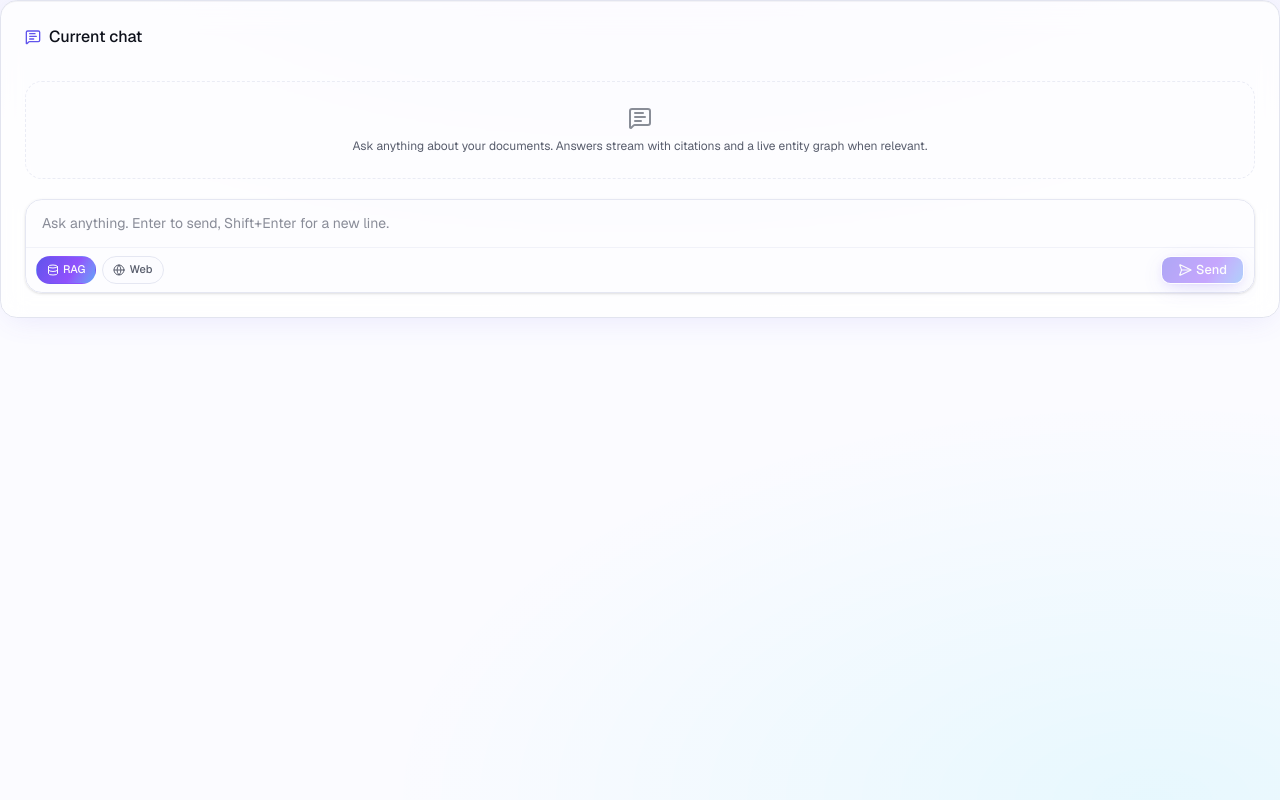
<ChatPanel /> › stop button aborts the in-flight stream and restores the question
Type "long-running query" into the text box named "question" at point(640, 224), box [26, 200, 1254, 247]
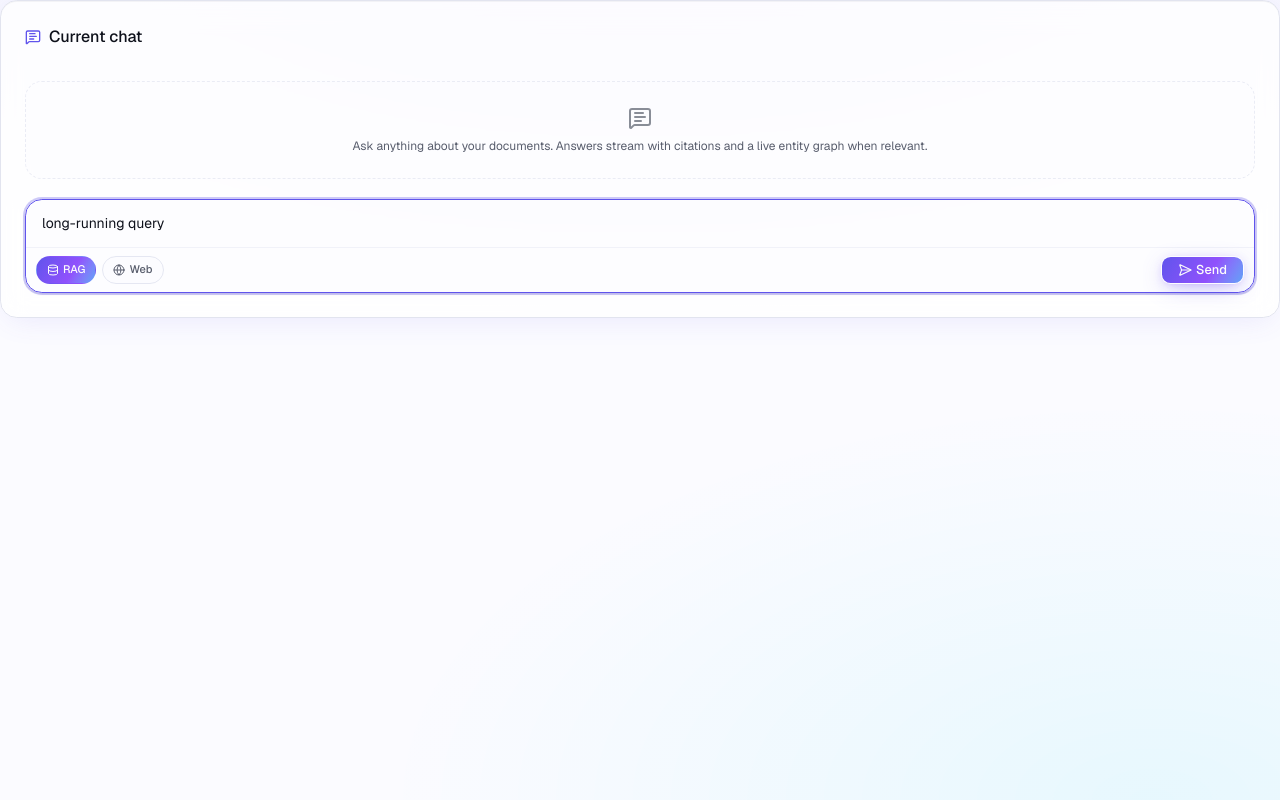
Click the button "Send" at point(1202, 270), box [1161, 256, 1244, 284]
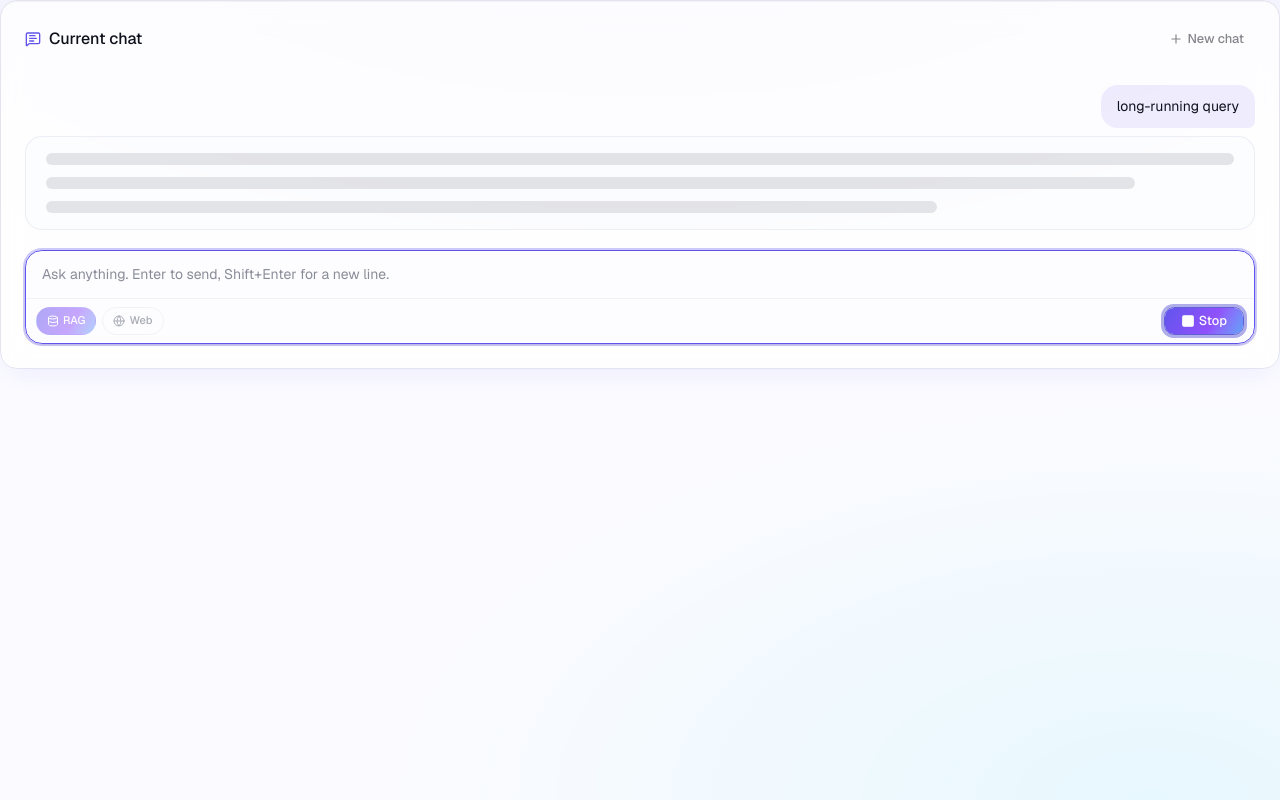
Click the button "Stop" at point(1204, 321), box [1164, 307, 1244, 335]
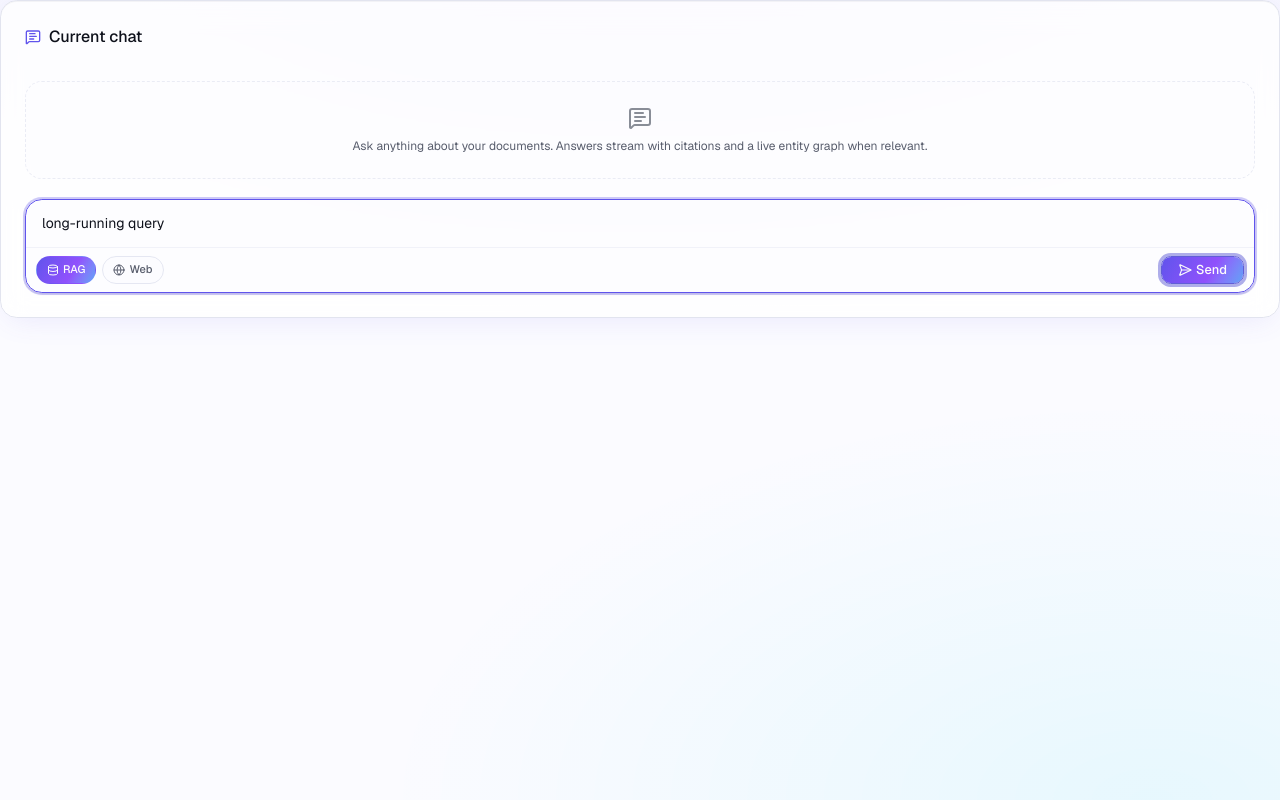
Check: the button "Send" is shown, box [1161, 256, 1244, 284]
